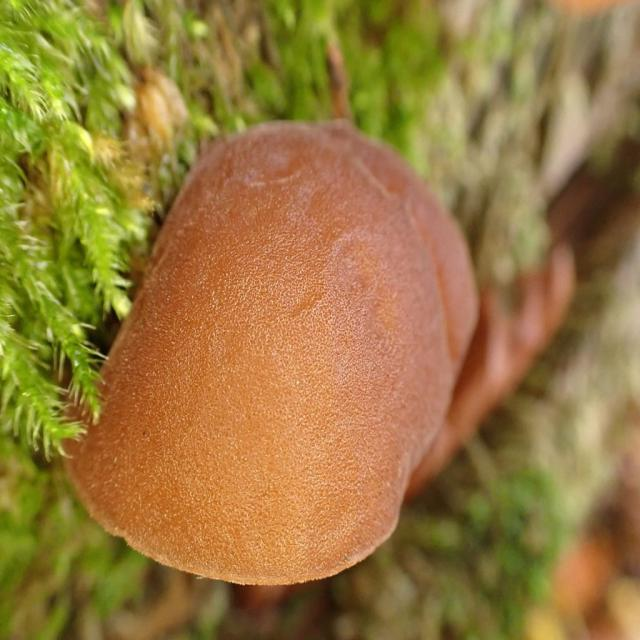Matang: (56, 94, 488, 595)
